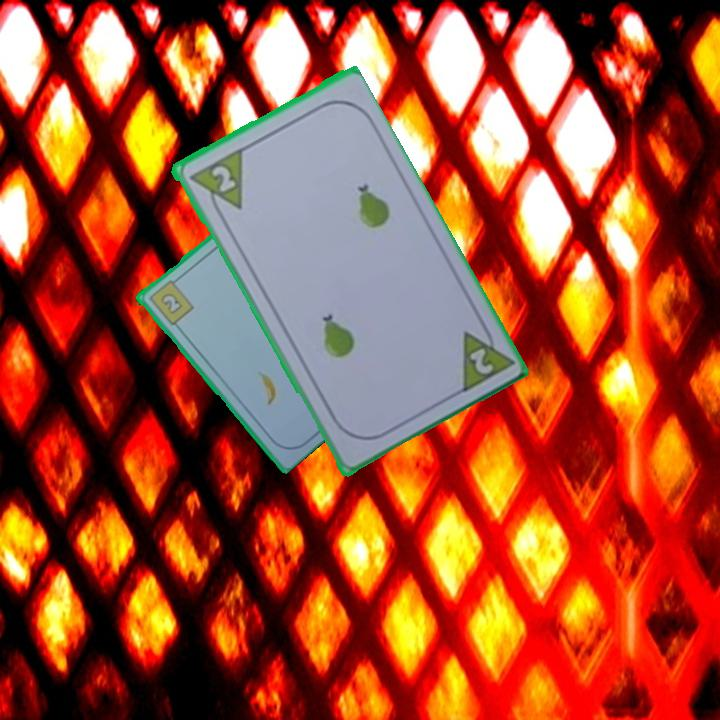2b: (145, 274, 196, 328)
2p: (455, 316, 515, 397), (207, 161, 238, 195)
